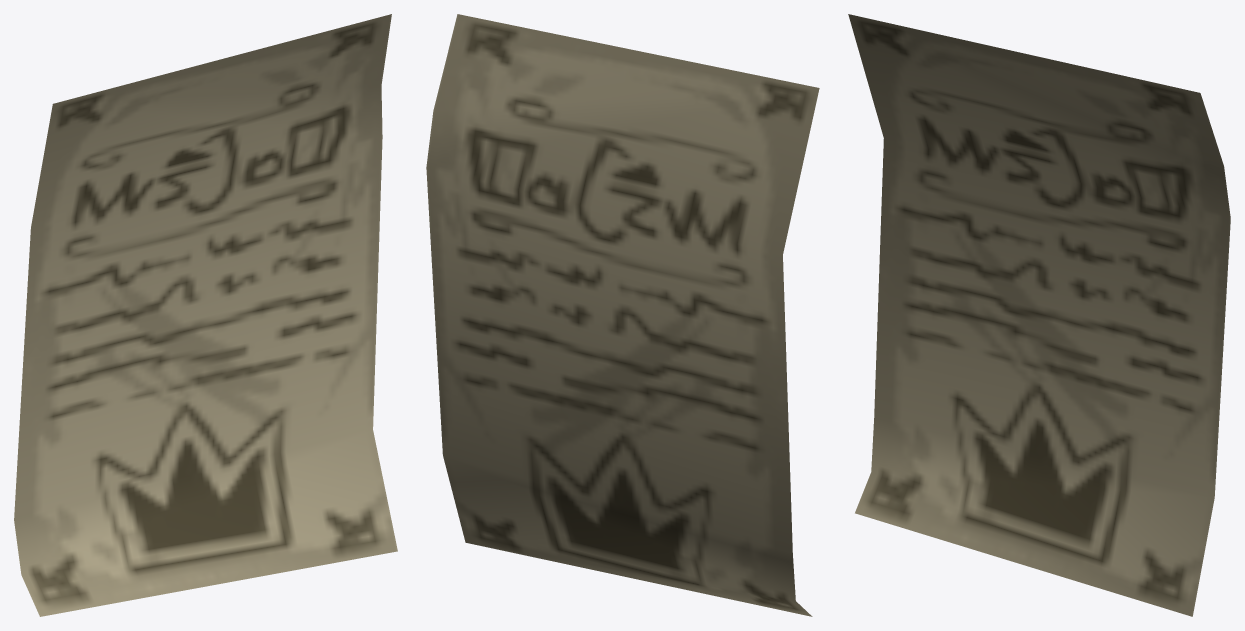
File: SM_PROP_paper_city_02.fbx
3 renders of one model, left to right at view 1: azimuth 30°, elevation 25°; view 2: azimuth 150°, elevation 25°; view 3: azimuth 330°, elevation 25°, orthographic. The views are drawn at different scales.
Visible parts, largest first — view 1: SM_PROP_paper_city_02; view 2: SM_PROP_paper_city_02; view 3: SM_PROP_paper_city_02.
Boxes of the visible parts, box(x1,y1,x2,y2) form: SM_PROP_paper_city_02: box(14, 14, 397, 616); SM_PROP_paper_city_02: box(426, 14, 819, 616); SM_PROP_paper_city_02: box(848, 14, 1230, 616).
Size of the model in its own units: 34.93 by 48.72 by 5.4.
